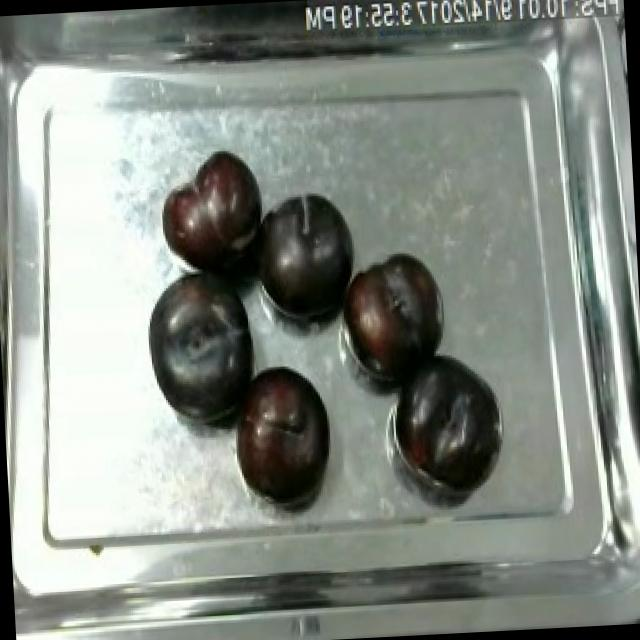Fruit: (139, 262, 264, 434), (392, 342, 508, 490), (225, 359, 338, 508), (336, 247, 452, 391), (154, 144, 270, 281), (253, 187, 364, 326)
